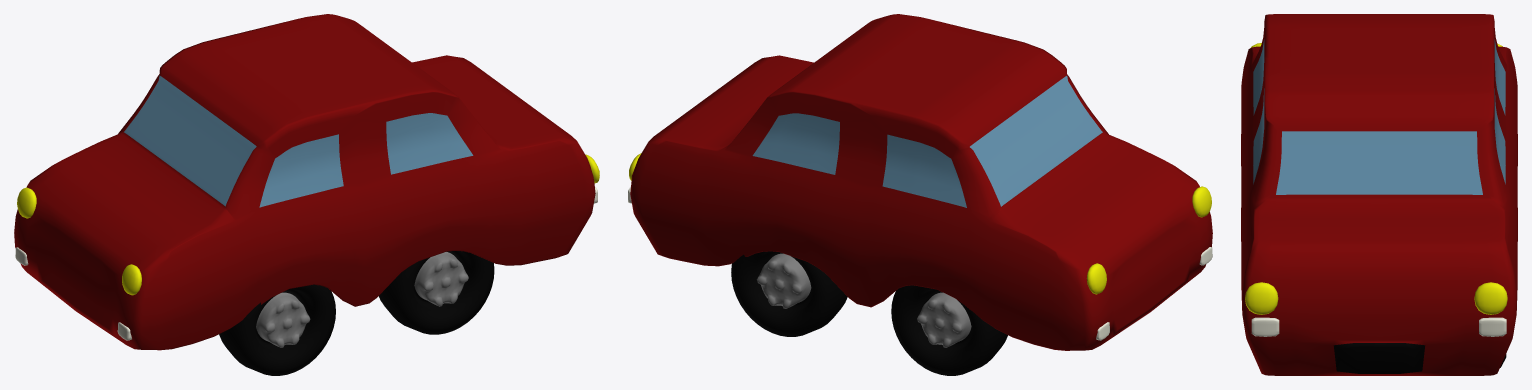
The model's file is carrinho.fbx.
3 views of the same model, side by side, from view 1: azimuth 30°, elevation 25°; view 2: azimuth 150°, elevation 25°; view 3: azimuth 270°, elevation 25° (orthographic). The views are drawn at different scales.
Parts seen in each view (by area): view 1: pCube1, pCube2, pCube15, pCube6, pCube7; view 2: pCube1, pCube17, pCube16, pCube7, pCube6; view 3: pCube1, pCube8, pCube9, pCube11, pCube13.
Part boxes in pixels (x1,y1,x2,y2): pCube1: (14, 14, 595, 350); pCube2: (219, 284, 335, 375); pCube15: (379, 251, 494, 334); pCube6: (122, 264, 141, 295); pCube7: (17, 187, 36, 218); pCube1: (630, 14, 1212, 350); pCube17: (731, 251, 847, 336); pCube16: (891, 285, 1007, 375); pCube7: (1086, 263, 1106, 294); pCube6: (1192, 186, 1211, 217); pCube1: (1241, 14, 1517, 375); pCube8: (1245, 282, 1278, 314); pCube9: (1474, 282, 1507, 314); pCube11: (1251, 317, 1279, 336); pCube13: (1479, 317, 1506, 336).
Bounding box in the file's own units: 402 × 204 × 188.
